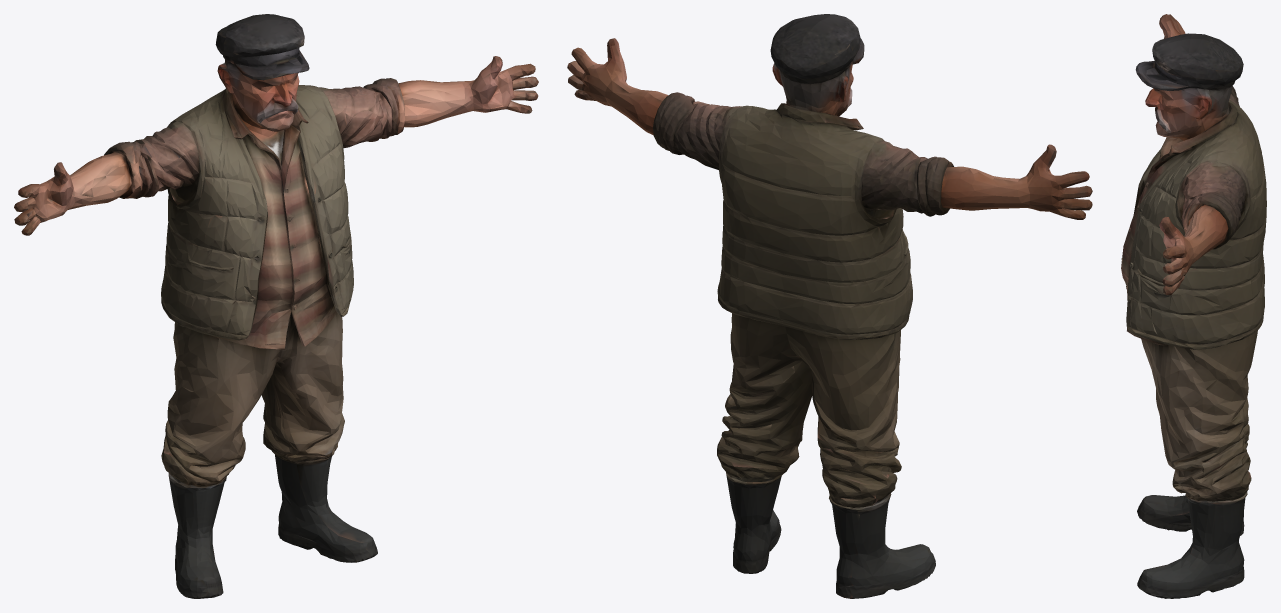
File: p-old-man-cap.glb
3 views of the same model, side by side, from view 1: azimuth 30°, elevation 25°; view 2: azimuth 150°, elevation 25°; view 3: azimuth 270°, elevation 25° (orthographic). The views are drawn at different scales.
Parts seen in each view (by area): view 1: body; view 2: body; view 3: body.
Boxes of the visible parts, left/top/right/bottom form: body: left=14, top=14, right=538, bottom=598; body: left=567, top=14, right=1092, bottom=598; body: left=1121, top=14, right=1266, bottom=598.
Size of the model in its own units: 1.7 by 1.7 by 0.4319.
1 material, 1 textured.
